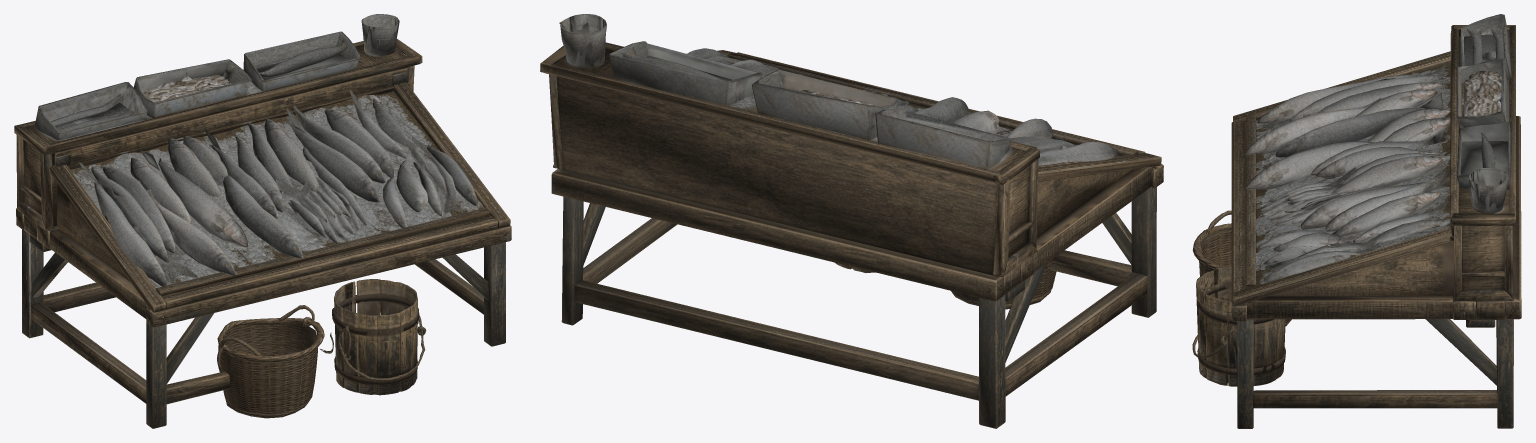
The model's file is FishStall.glb.
3 renders of one model, left to right at view 1: azimuth 30°, elevation 25°; view 2: azimuth 150°, elevation 25°; view 3: azimuth 270°, elevation 25°, orthographic. The views are drawn at different scales.
Size of the model in its own units: 0.9497 by 0.5835 by 0.6792.
1 material, 1 textured.
